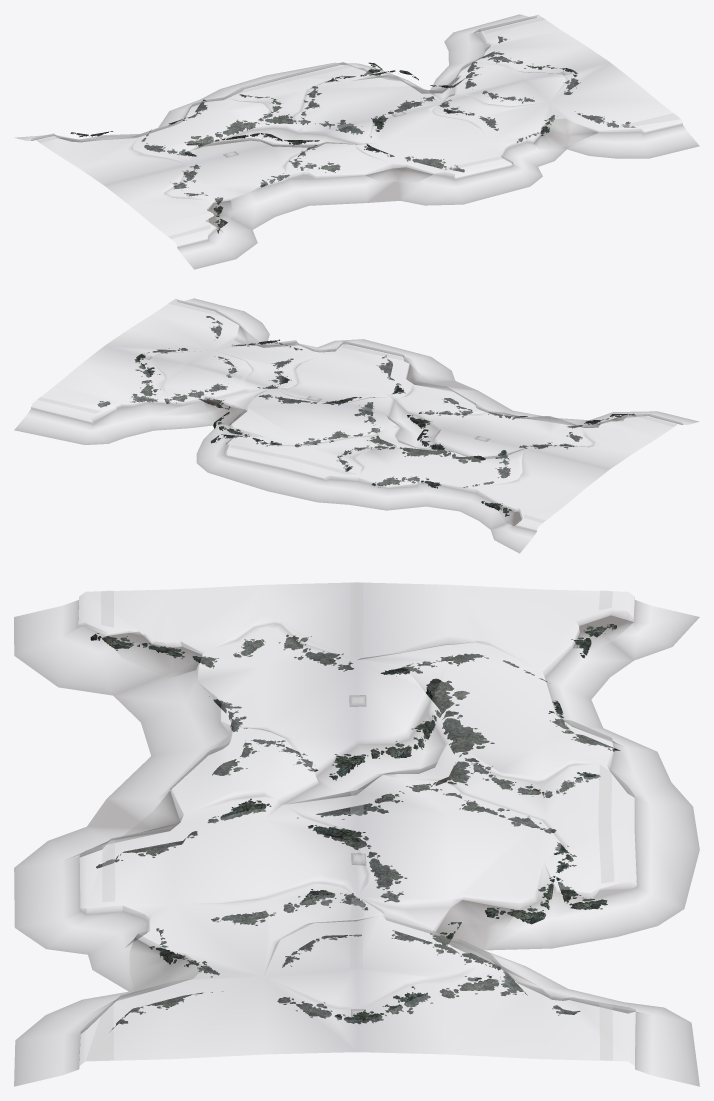
The model's file is RoadStraightDamaged.FBX.
3 views of the same model, one above another, from view 1: azimuth 30°, elevation 25°; view 2: azimuth 150°, elevation 25°; view 3: azimuth 270°, elevation 25° (orthographic). The views are drawn at different scales.
Parts seen in each view (by area): view 1: WastelandRoadStraightLongB:0, PittedDecal; view 2: WastelandRoadStraightLongB:0, PittedDecal; view 3: WastelandRoadStraightLongB:0, PittedDecal.
Boxes of the visible parts, x1,y1,x2,y2 form: WastelandRoadStraightLongB:0: (17, 14, 698, 269); PittedDecal: (70, 36, 635, 233); WastelandRoadStraightLongB:0: (15, 298, 698, 553); PittedDecal: (97, 316, 635, 516); WastelandRoadStraightLongB:0: (14, 582, 699, 1086); PittedDecal: (90, 624, 620, 1029).
Size of what is drawn, in the model's own units: 10.24 by 0.422 by 6.32.
